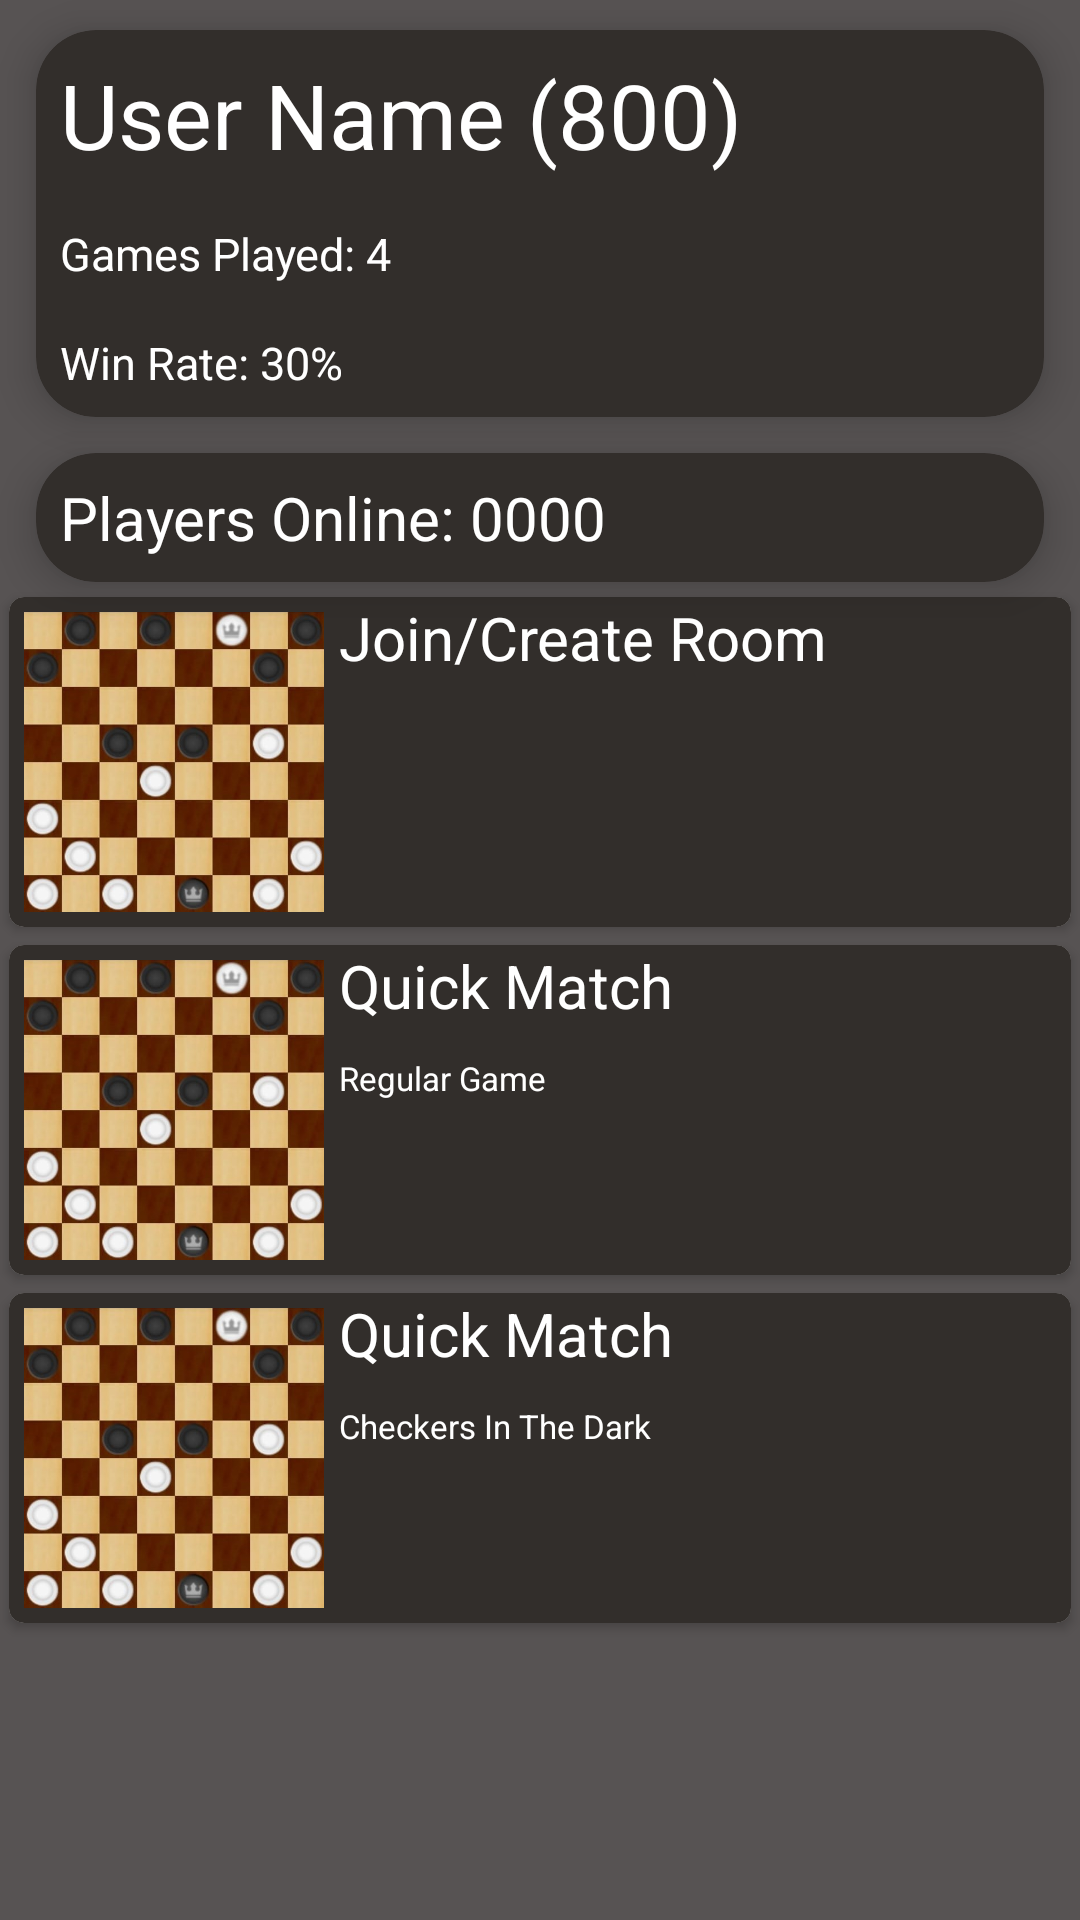

Icon bounding boxes for this 1080w x 1920h phone screenshot, format bbox(x1, y1, x2, y2):
board: bbox(24, 612, 324, 912), bbox(24, 960, 324, 1260), bbox(24, 1308, 324, 1608)
